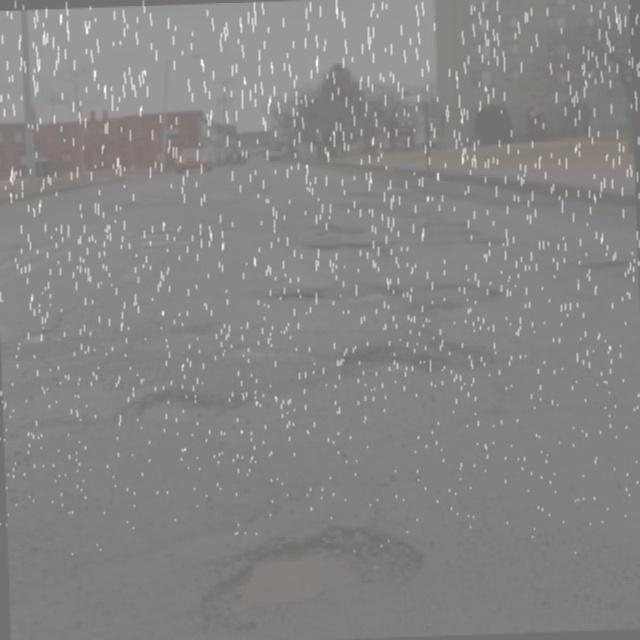Pothole: (163, 505, 433, 639), (315, 339, 481, 395), (89, 380, 268, 428), (391, 273, 517, 323), (5, 306, 90, 356), (298, 212, 392, 255), (419, 212, 514, 254), (120, 223, 207, 253), (265, 272, 322, 314), (335, 281, 409, 308), (565, 257, 640, 276), (341, 190, 406, 203)
